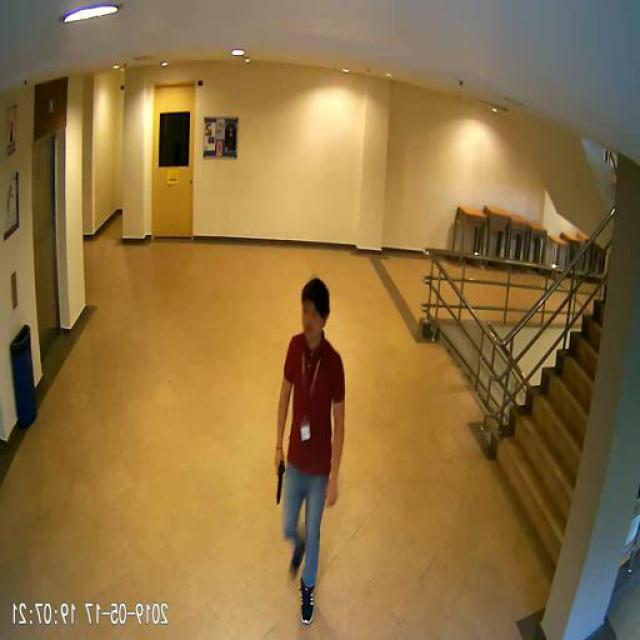Gun: (276, 455, 286, 503)
